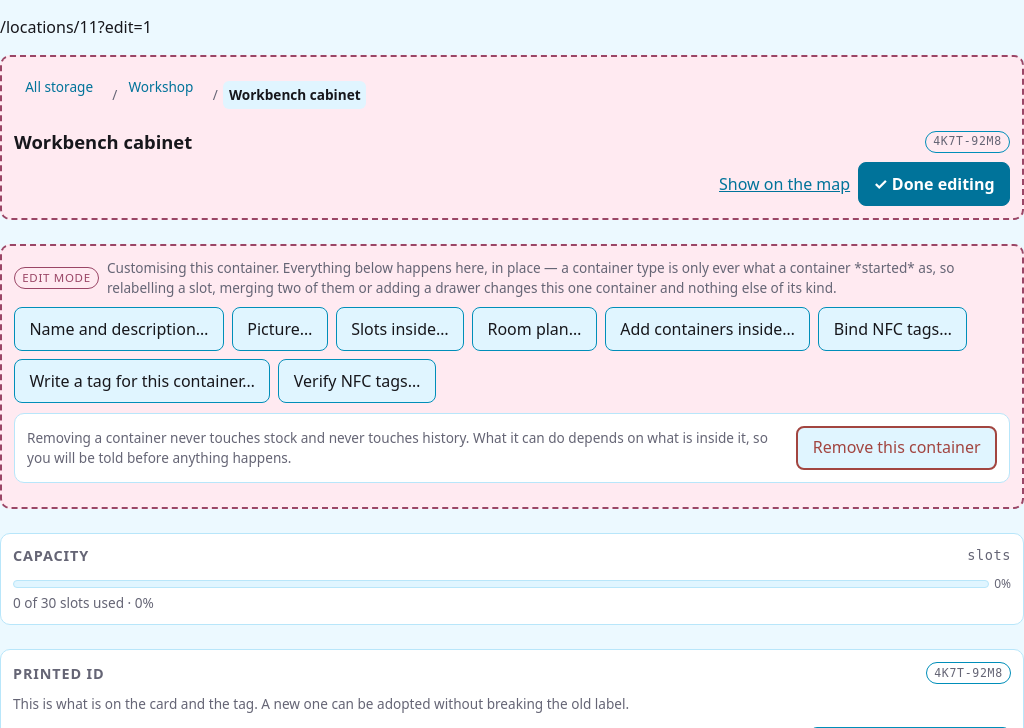
Test case: says an unsent rename is unsent, and does not throw it away on a stray Escape
Click the button "Name and description…" at (119, 330), box [14,308,224,352]
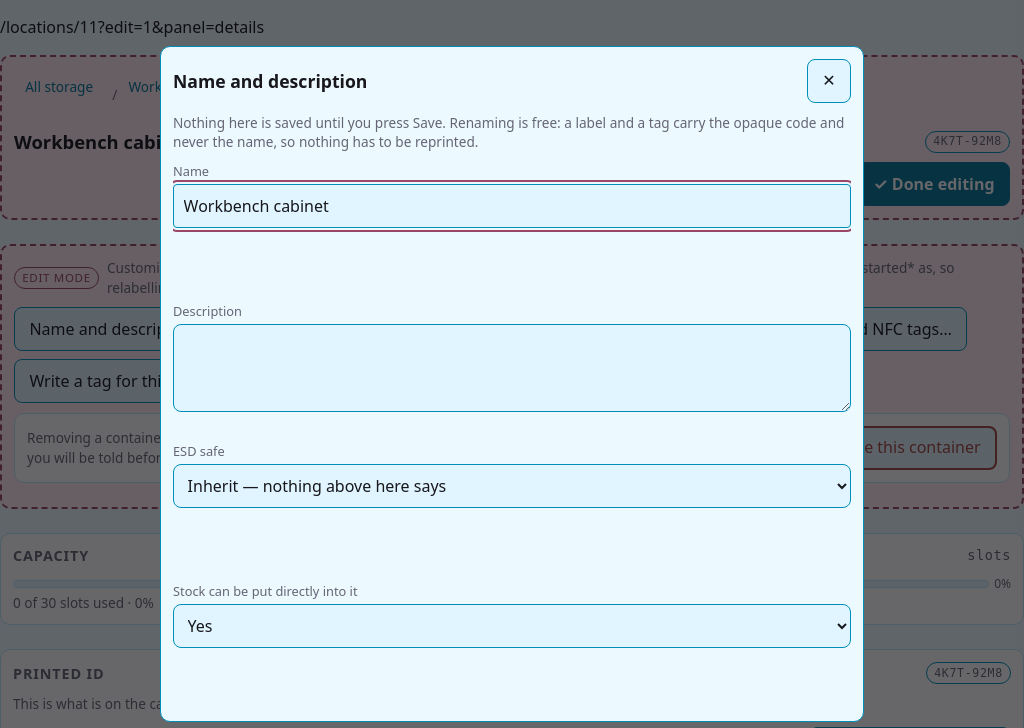
Check: the text "unsaved" is not shown
Replace the text in the field labelled "Name" with "Half a name" at (512, 206), box [173,184,851,228]
(page scrolled)
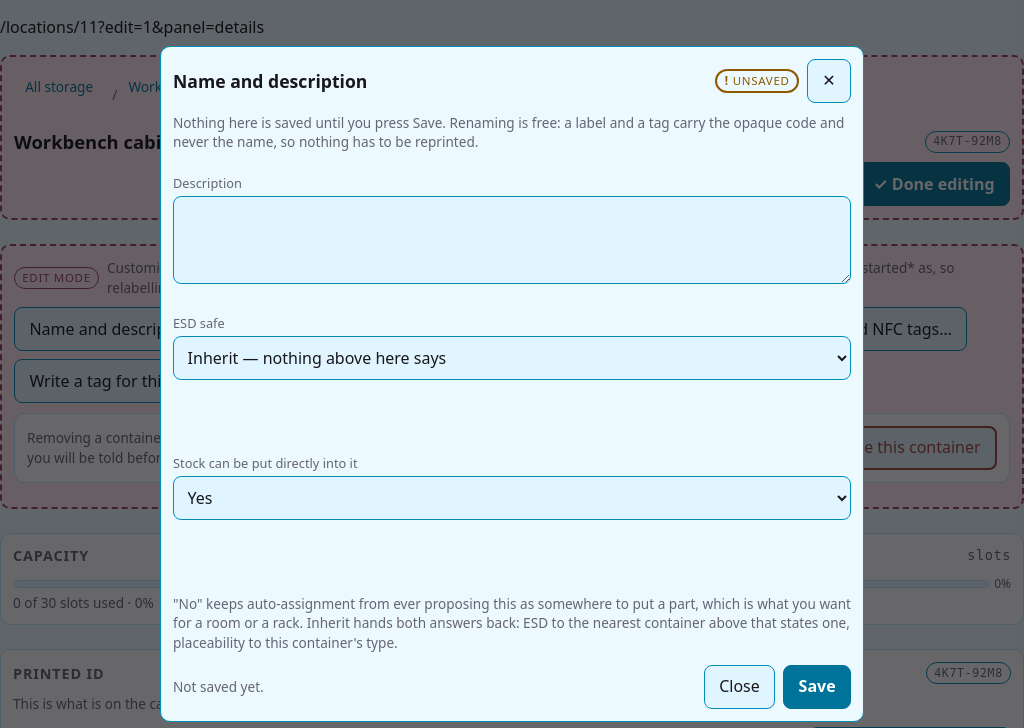
Check: the text "Not saved yet." is shown, box [173,677,264,696]
Press Escape
(page scrolled)
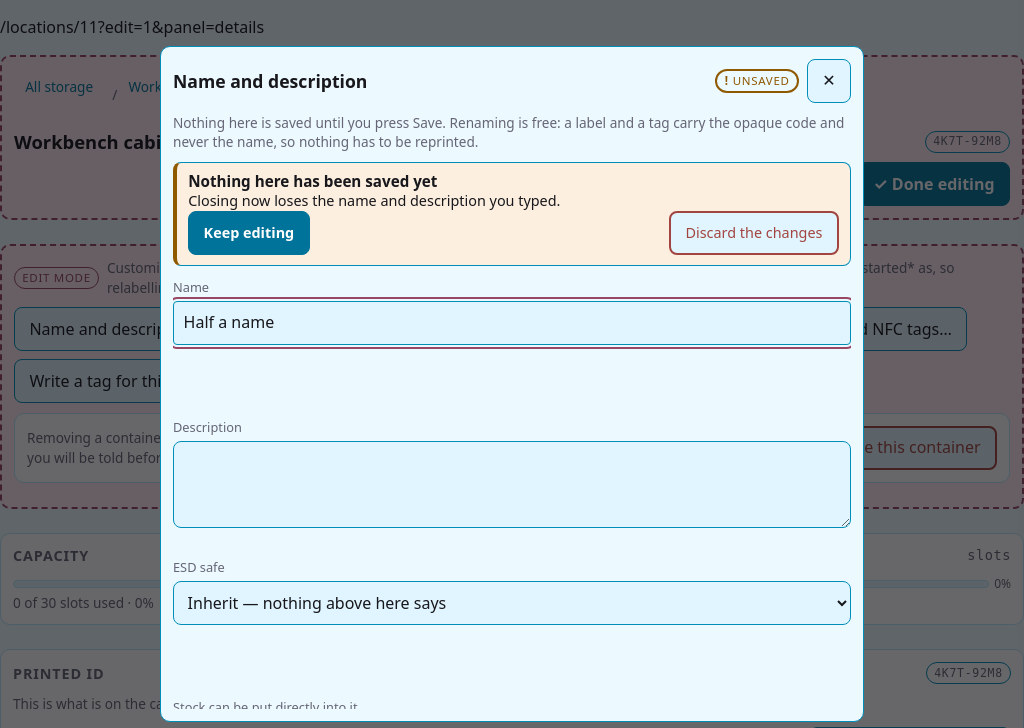
Check: the dialog is shown
Check: the heading "Nothing here has been saved yet" is shown, box [188,171,437,191]
Click the button "Keep editing" at (249, 233), box [188,211,310,255]
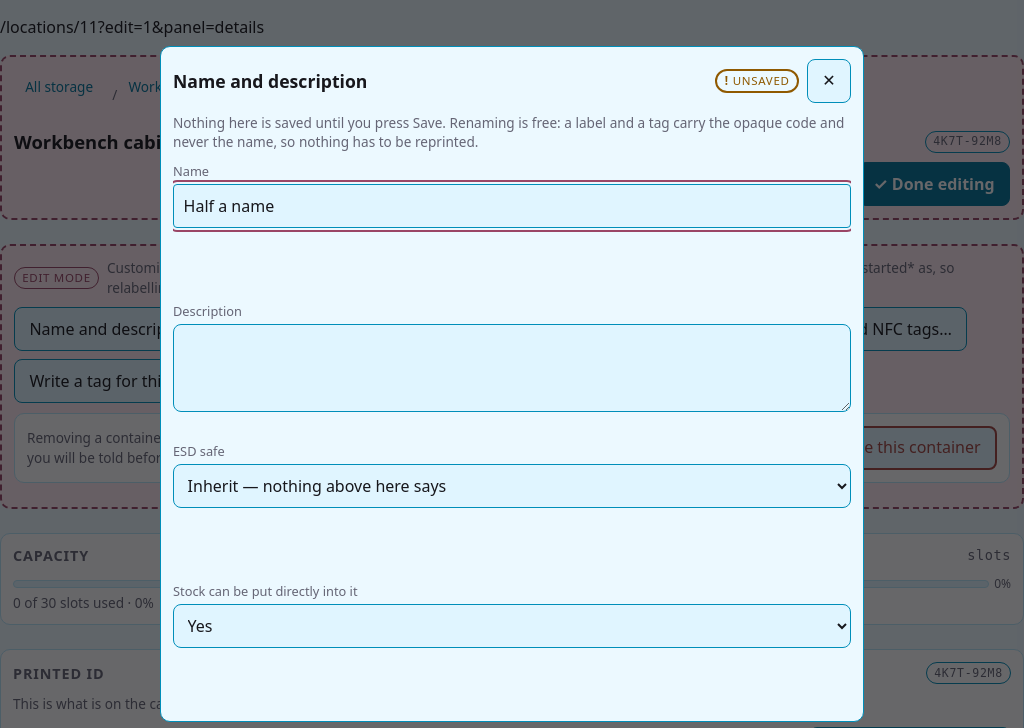
And the deliberate second answer does close it, with nothing written.
Press Escape
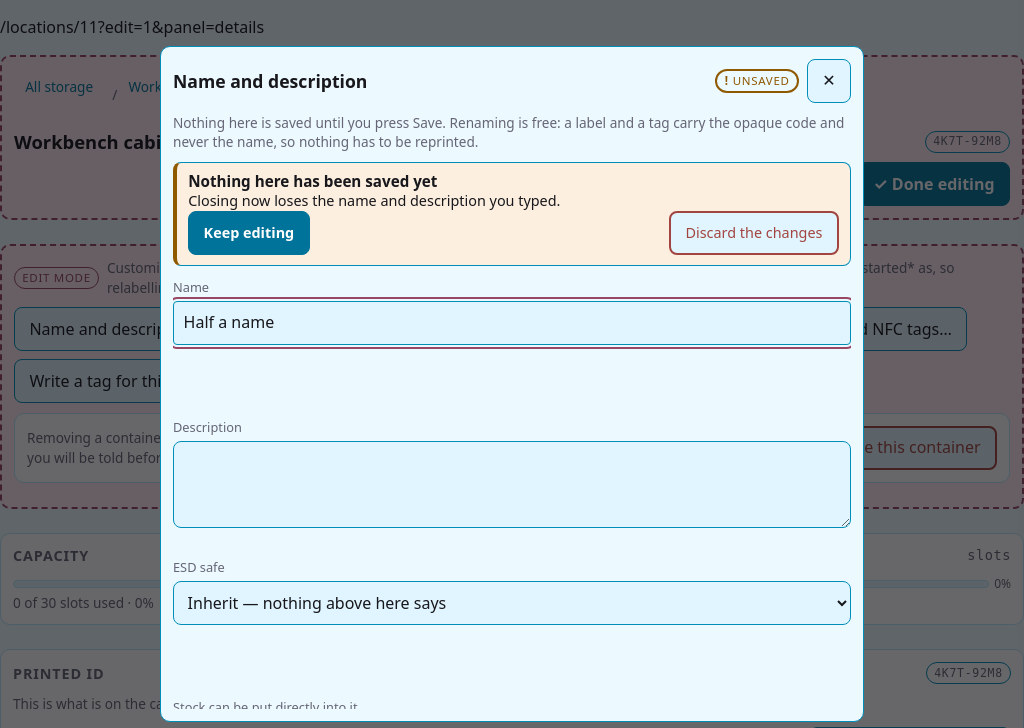
Click the button "Discard the changes" at (754, 233), box [669,211,839,255]
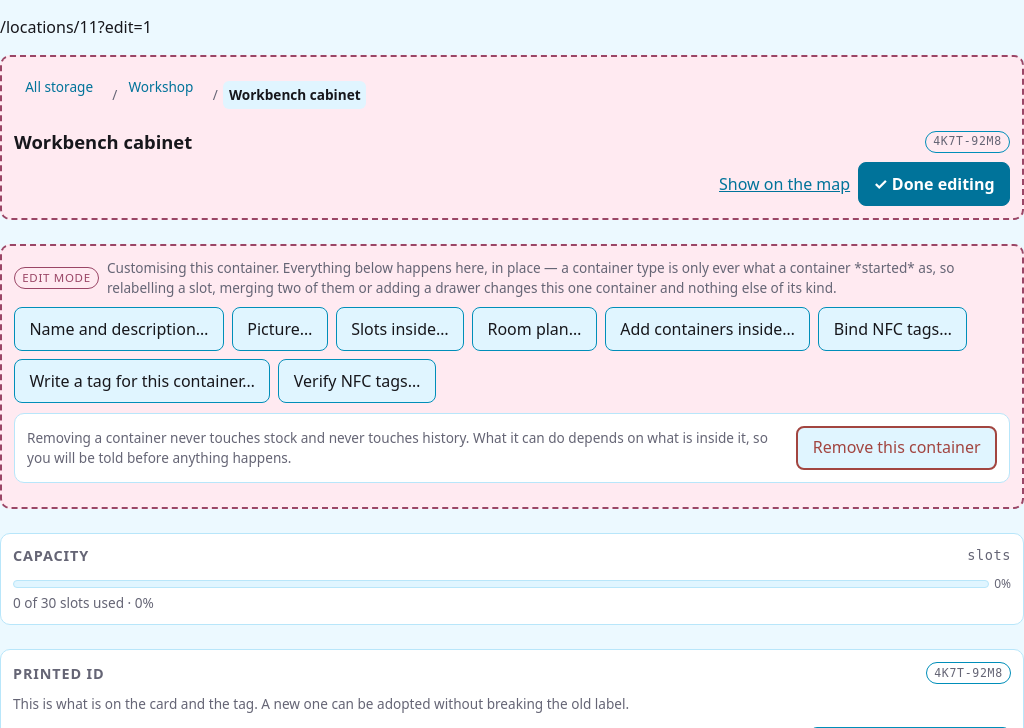
Check: the dialog is gone
